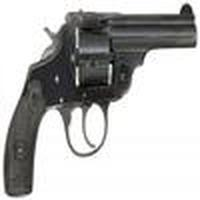gun: (3, 13, 195, 195)
